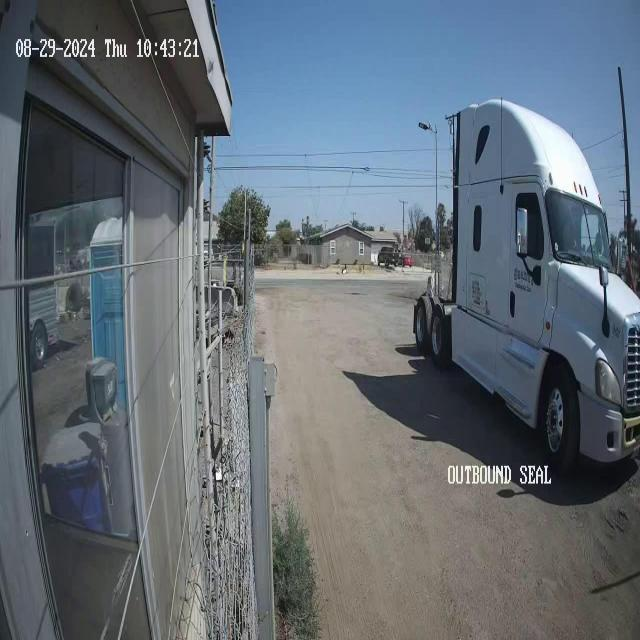BOBTAIL: (412, 96, 640, 475)
